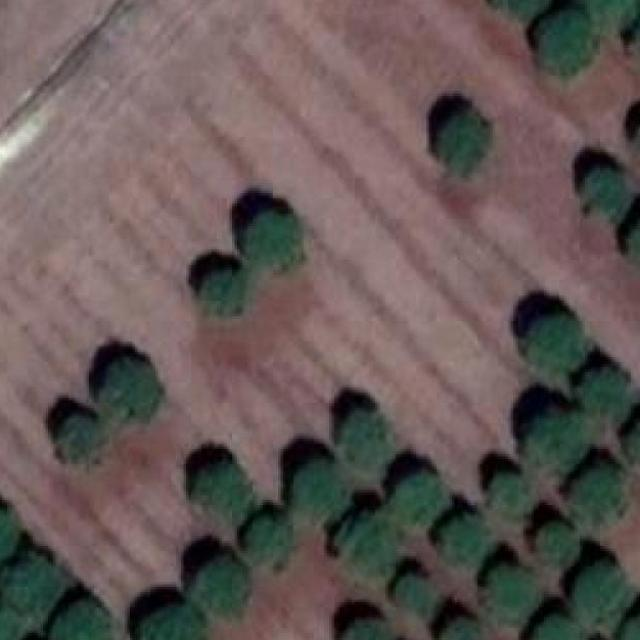Tree: (5, 554, 77, 629), (337, 510, 399, 577), (242, 212, 304, 278), (94, 357, 155, 421), (525, 408, 585, 469), (570, 459, 626, 523), (286, 462, 342, 524), (432, 512, 488, 572), (480, 561, 534, 623), (531, 319, 590, 375), (542, 9, 596, 69), (192, 551, 246, 607), (338, 408, 388, 467), (580, 365, 634, 416), (52, 413, 104, 464), (194, 457, 242, 511), (248, 508, 294, 564), (580, 562, 626, 616), (143, 602, 208, 640), (51, 602, 113, 640), (200, 265, 246, 316), (398, 472, 444, 520), (530, 520, 580, 564), (580, 170, 630, 212), (398, 568, 437, 618), (440, 111, 480, 158), (488, 472, 526, 514), (0, 510, 19, 576), (337, 617, 388, 640), (536, 614, 580, 640), (580, 0, 636, 19), (436, 617, 482, 640), (0, 597, 19, 640), (493, 0, 542, 14)
